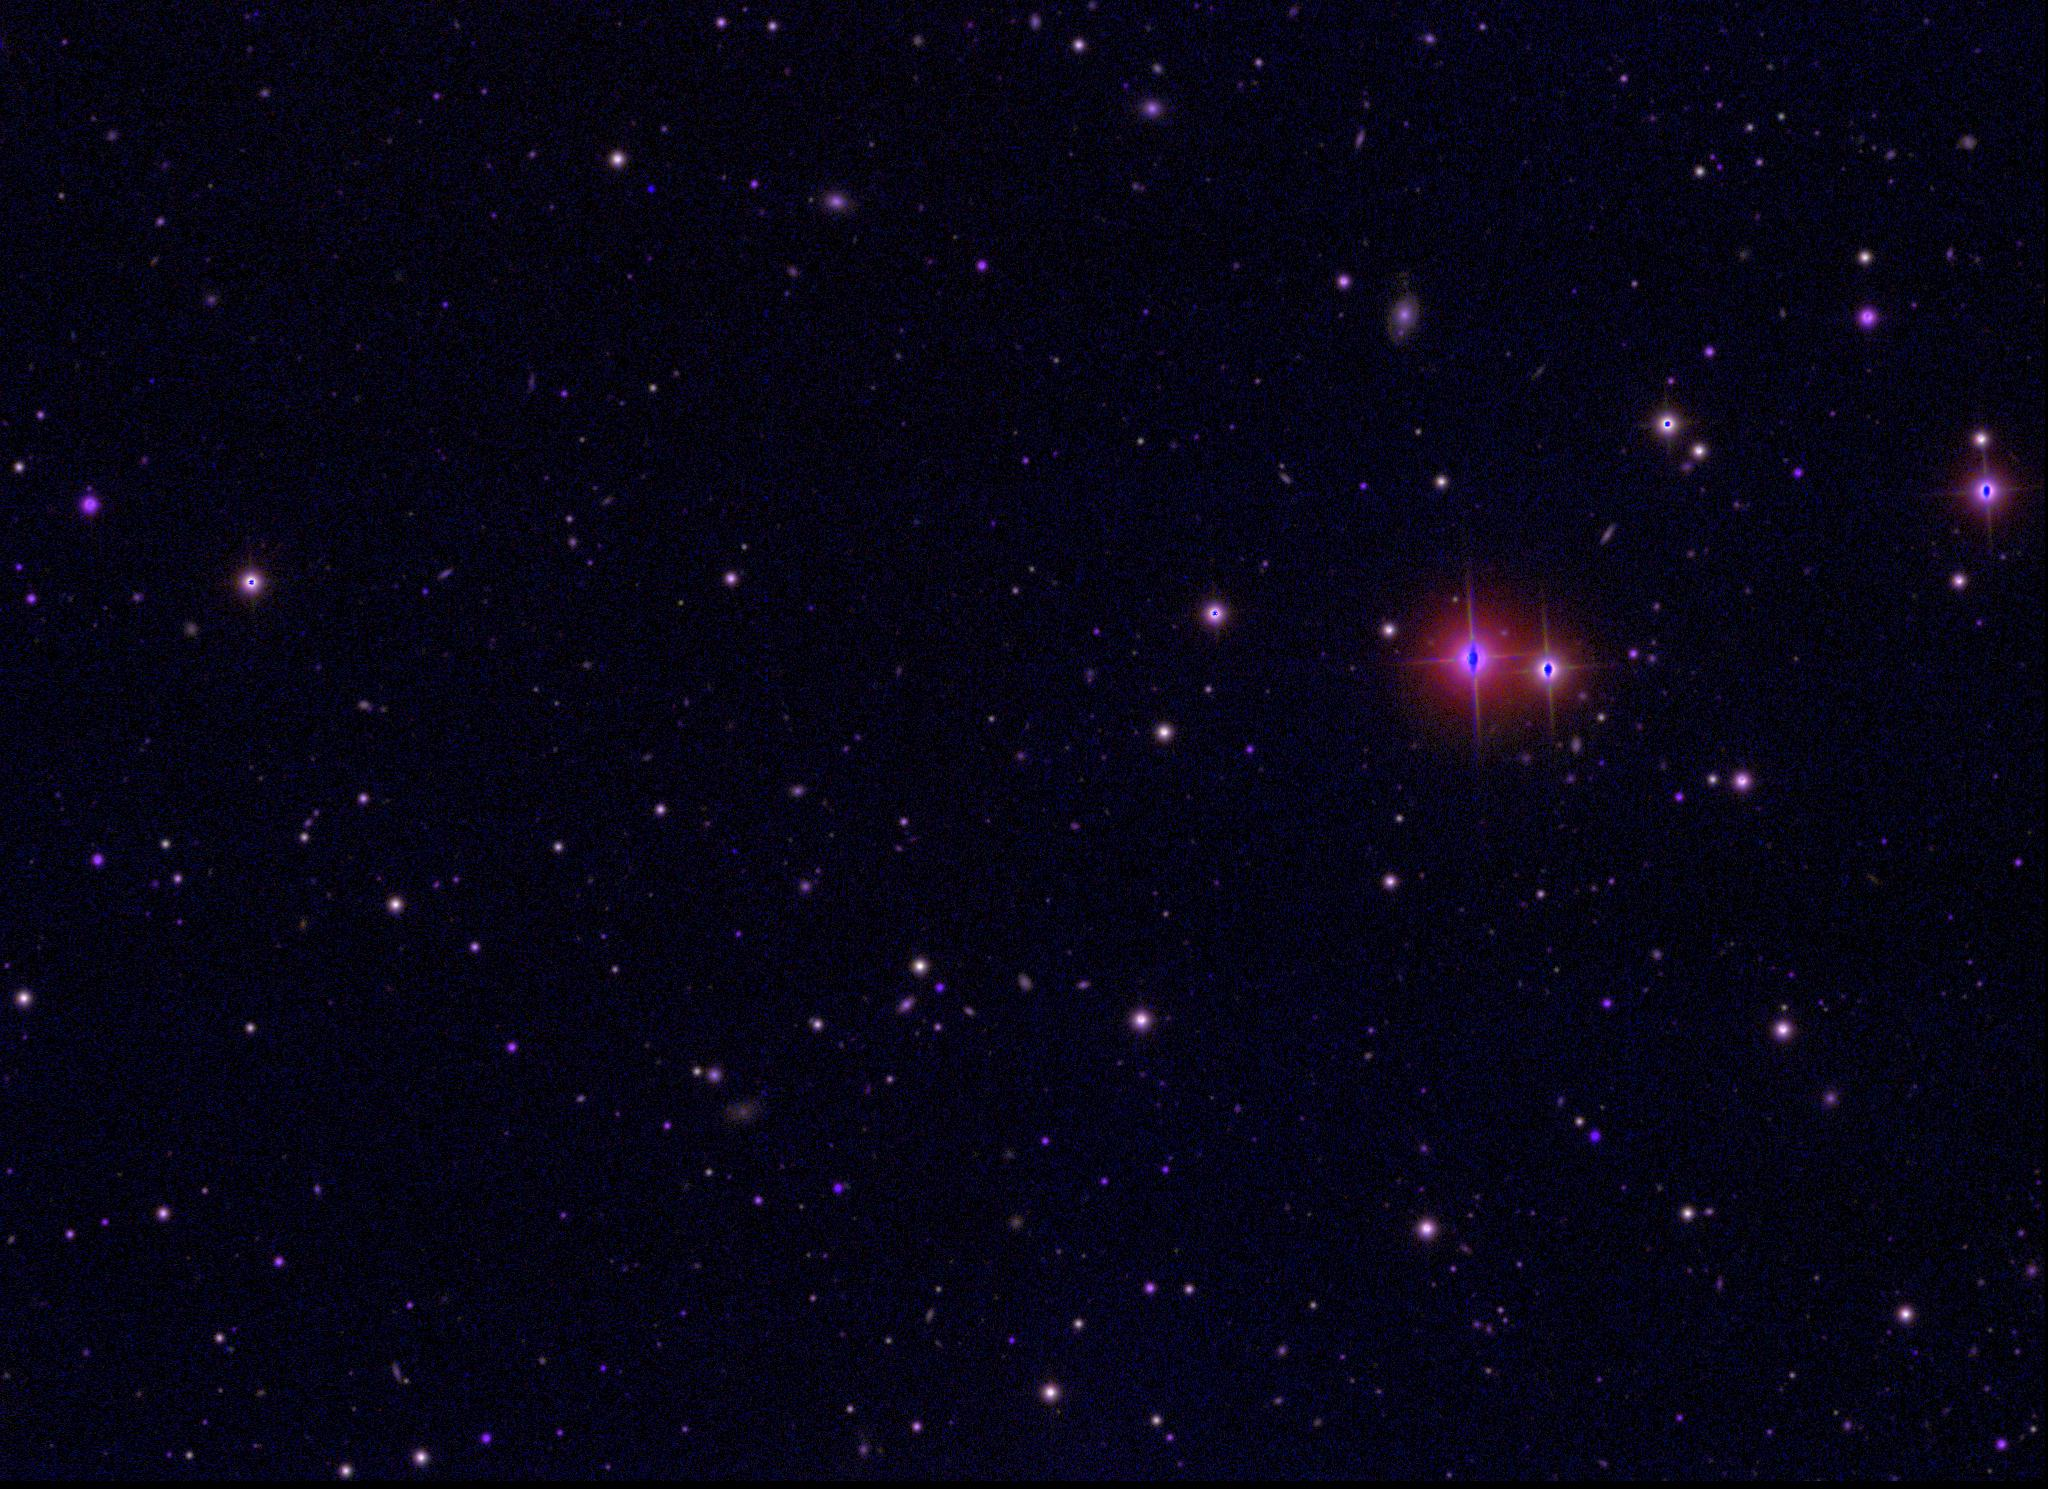L: (642, 180, 657, 192)
